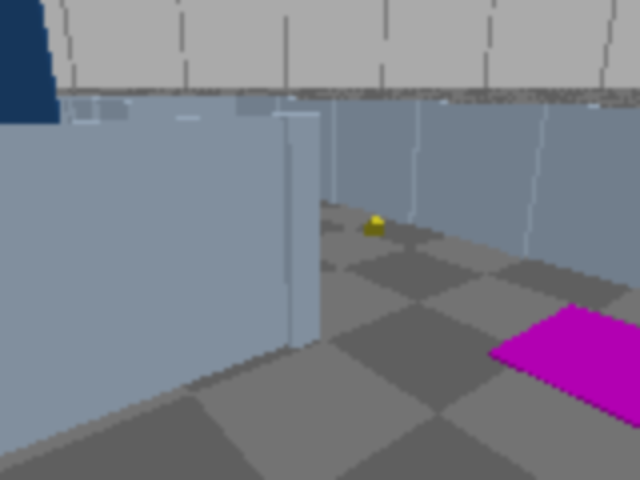goal_zone: (487, 304, 638, 462)
person: (0, 0, 78, 256)
puck: (367, 218, 383, 236)
